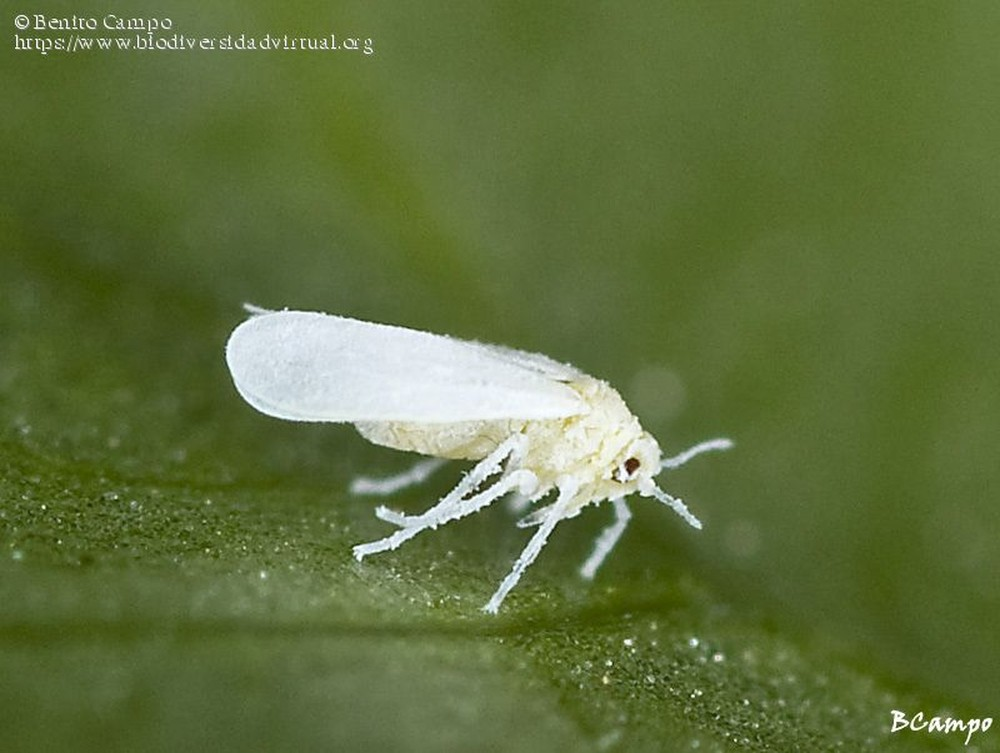Mosca Blanca: (212, 286, 741, 643)
